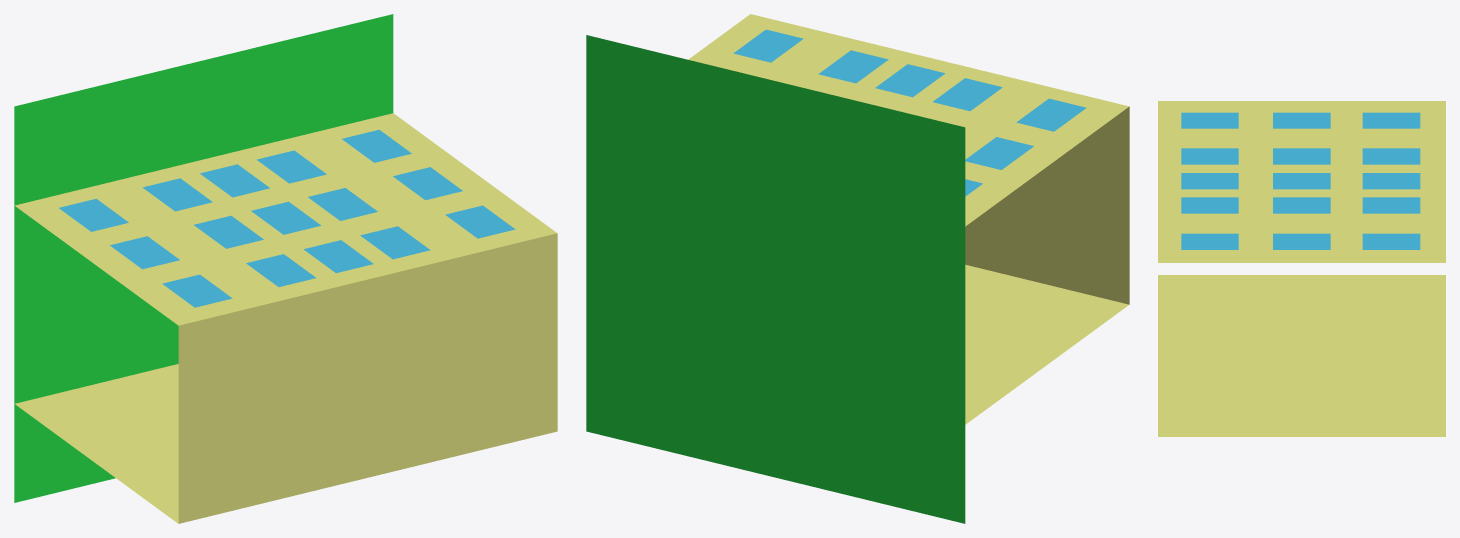
File: building2.glb
3 views of the same model, side by side, from view 1: azimuth 30°, elevation 25°; view 2: azimuth 150°, elevation 25°; view 3: azimuth 270°, elevation 25° (orthographic). The views are drawn at different scales.
Parts seen in each view (by area): view 1: Plane.001, Plane; view 2: Plane, Plane.001; view 3: Plane.001.
Part boxes in pixels (x1,y1,x2,y2): Plane.001: [14, 113, 557, 523]; Plane: [14, 14, 393, 502]; Plane: [586, 35, 965, 523]; Plane.001: [586, 14, 1129, 424]; Plane.001: [1158, 101, 1445, 436].
Size of the model in its own units: 2 by 2 by 1.5.
